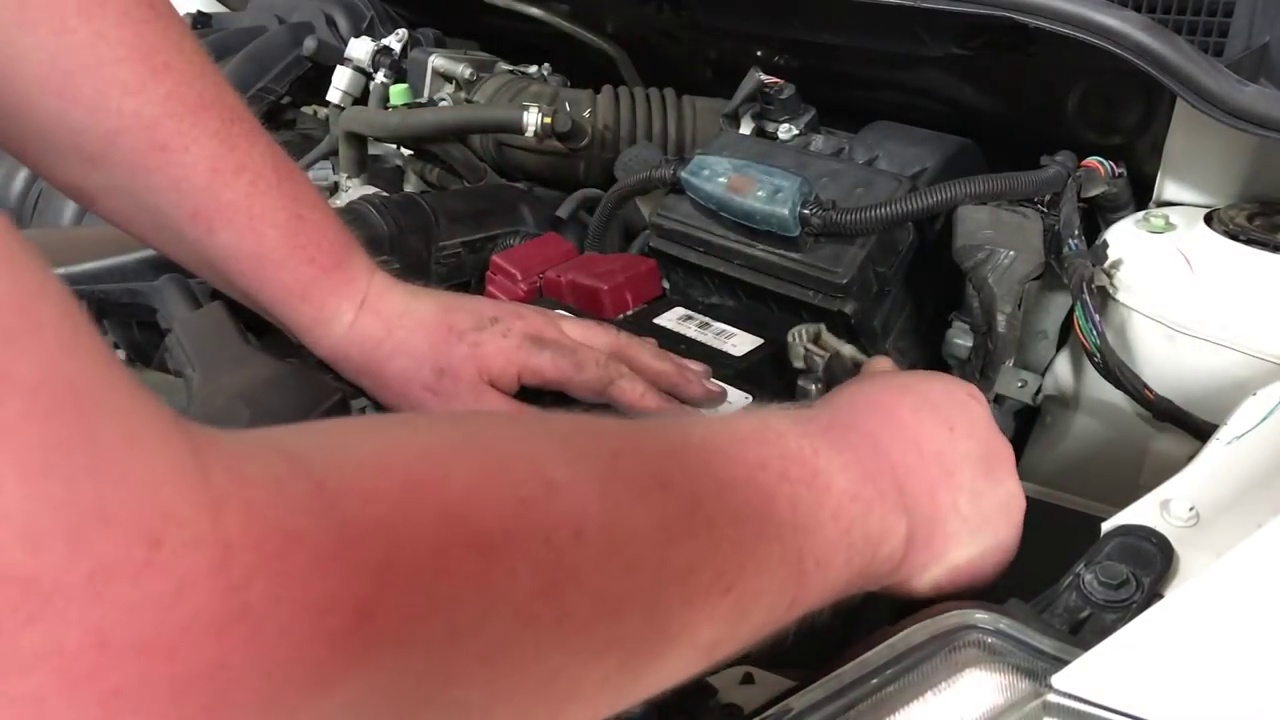battery: (473, 267, 853, 464)
neg_touched: (773, 311, 940, 503)
pos_connected: (479, 234, 681, 318)
pos_touched: (478, 230, 667, 411)
